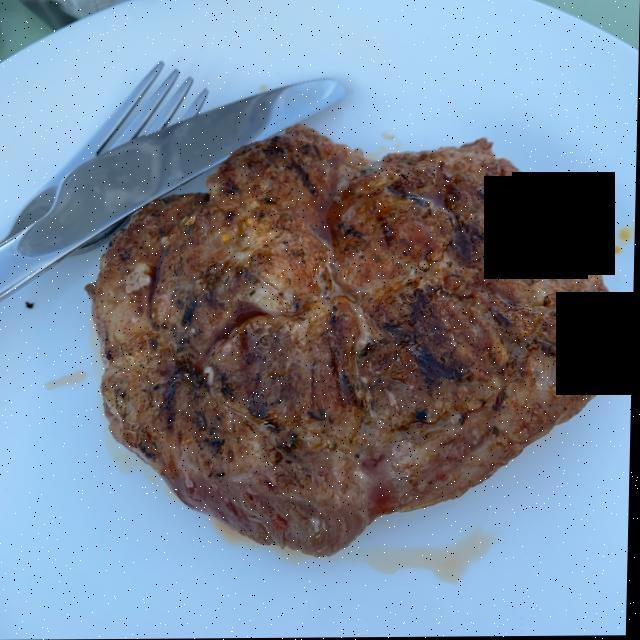pork: (105, 133, 615, 545)
